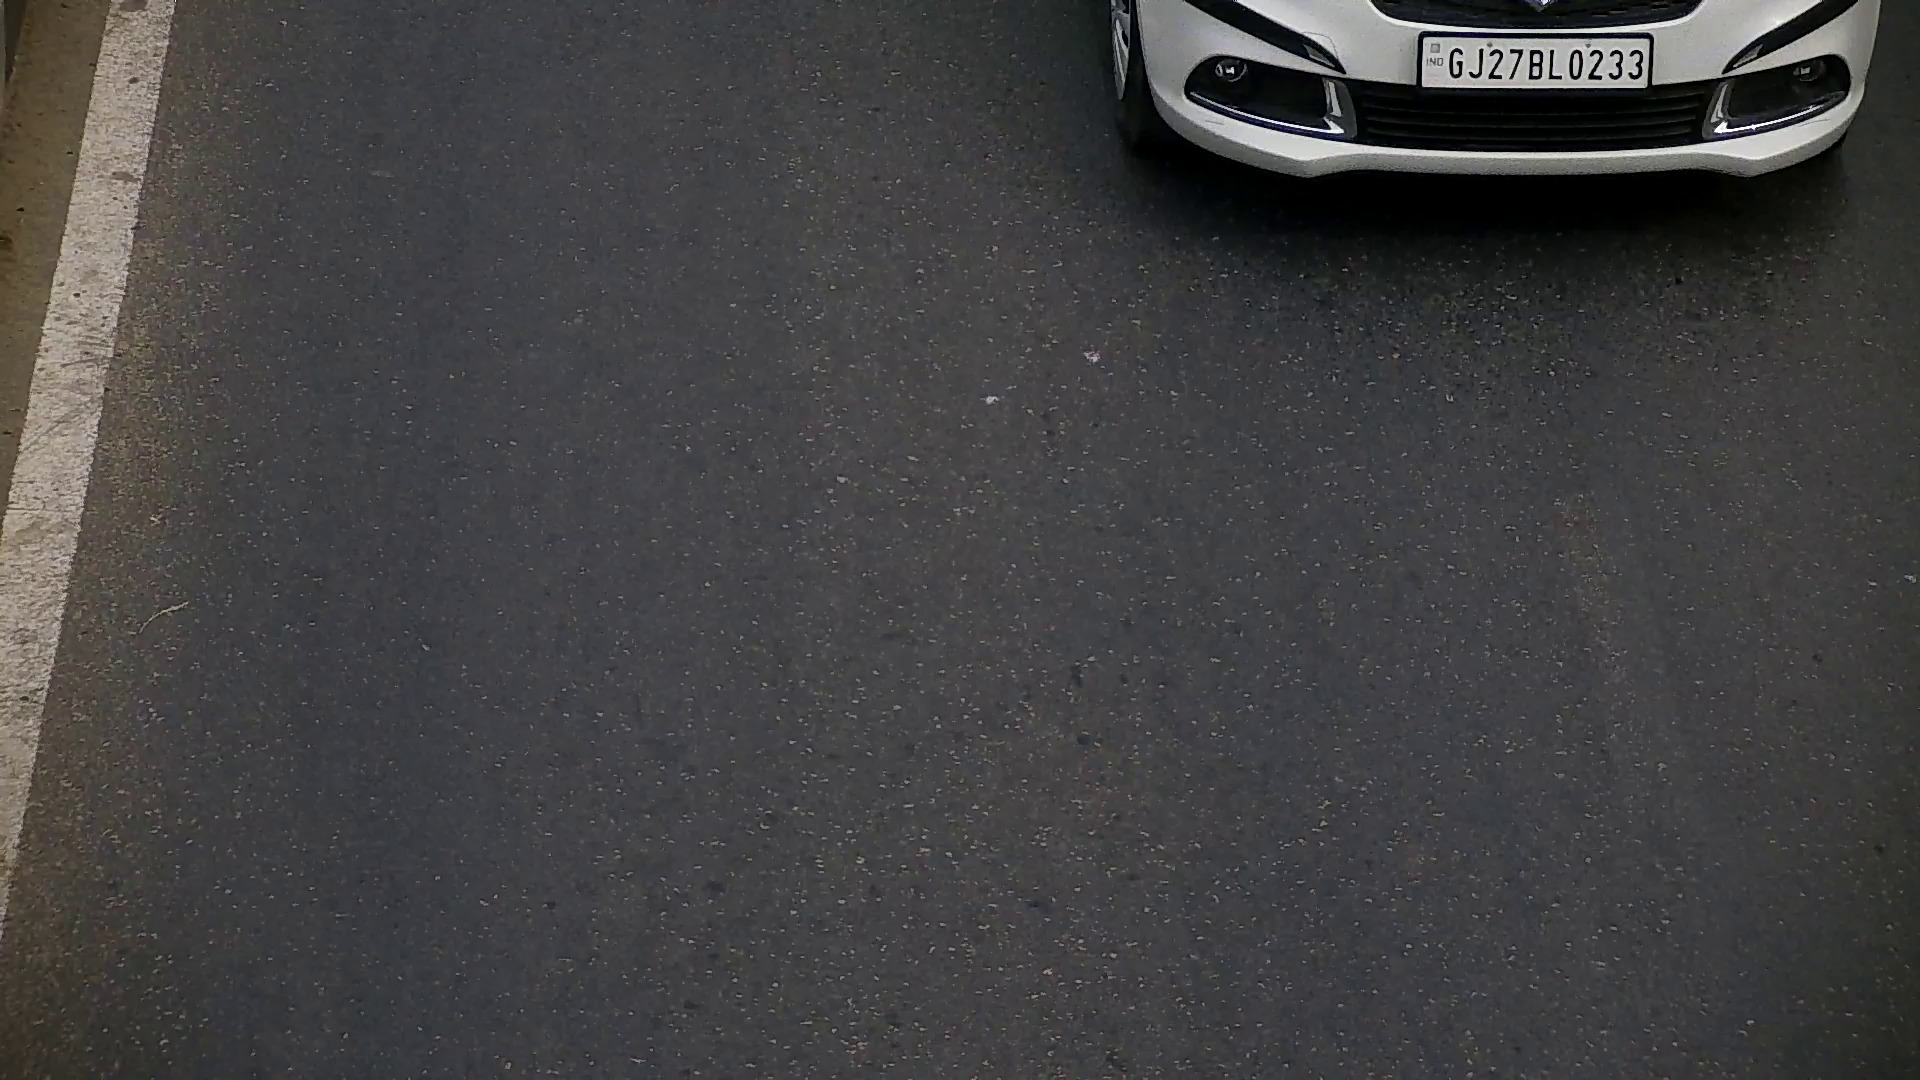numberplate: (1414, 29, 1657, 88)
